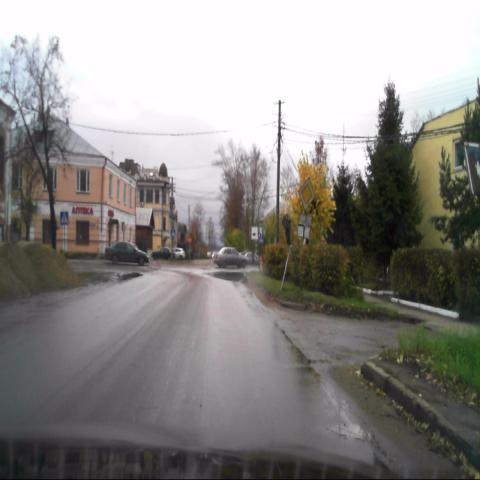8_13: (297, 215, 311, 240)
